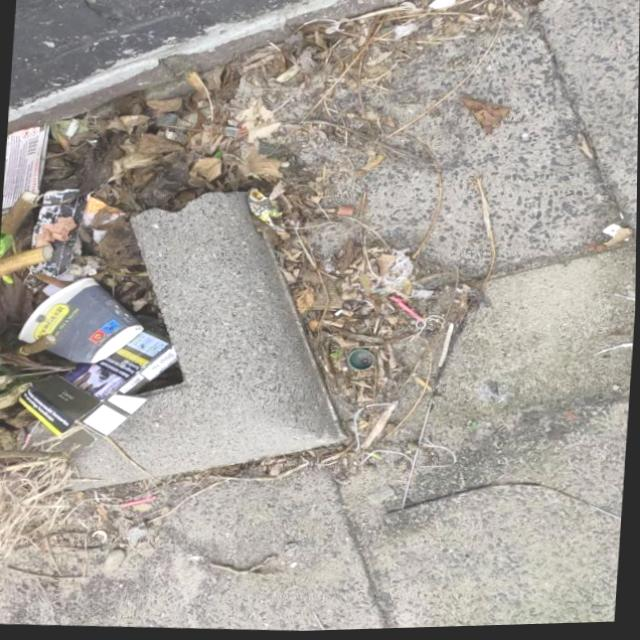Cup: (8, 272, 151, 374)
